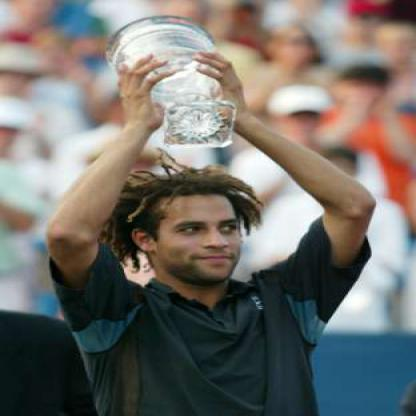face: (150, 180, 252, 287), (345, 62, 392, 104), (273, 30, 313, 66)
